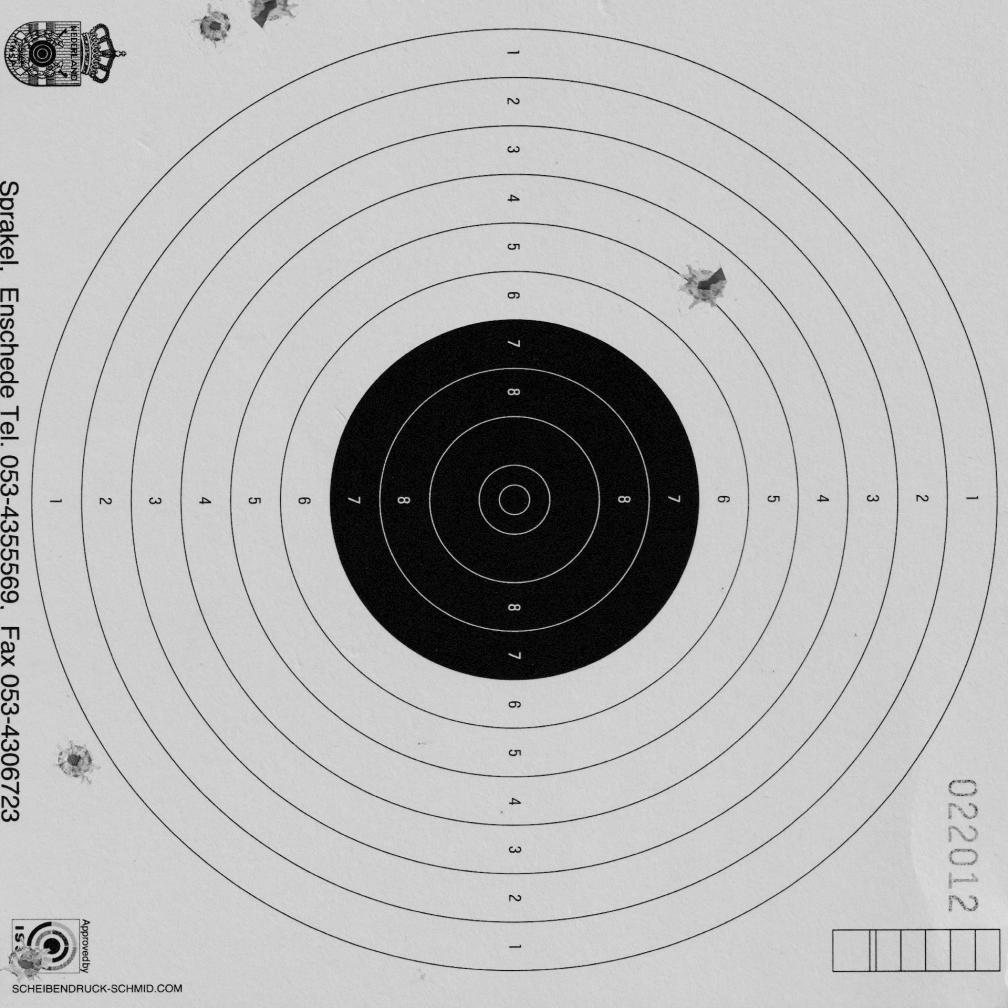0: (49, 737, 102, 787), (0, 942, 56, 987), (190, 3, 232, 51), (246, 0, 299, 32)
5: (674, 261, 730, 311)
Target: (26, 25, 1000, 979)
black_contour: (328, 320, 702, 681)
